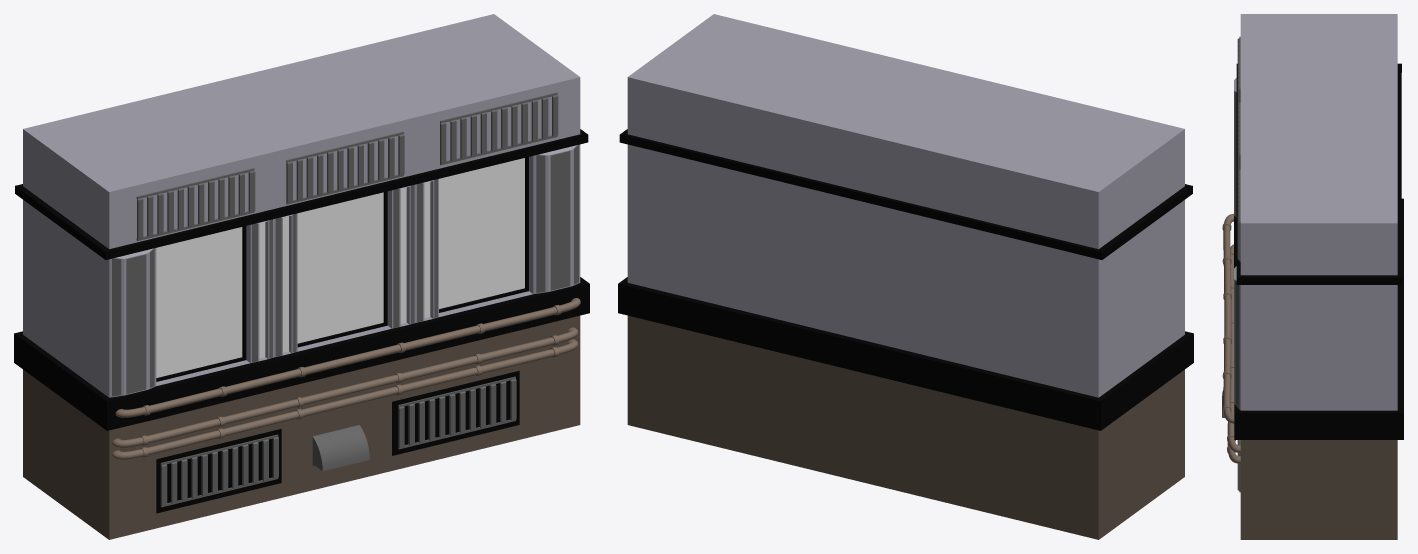
The model's file is SecFloorVol2.fbx.
The picture shows the model from 3 angles, left to right: view 1: azimuth 30°, elevation 25°; view 2: azimuth 150°, elevation 25°; view 3: azimuth 270°, elevation 25°; orthographic projection. The views are drawn at different scales.
Visible parts, largest first — view 1: Cube.036, NurbsPath.042, NurbsPath.041, NurbsPath.040, Cube.052, Cube.037, Cube.039, Cube.041, Cube.040, Cube.089; view 2: Cube.036; view 3: Cube.036, NurbsPath.040, NurbsPath.041, Cube.040, Cube.039, Cube.041.
Part boxes in pixels (<box>): Cube.036: <box>14,14,589,539</box>; NurbsPath.042: <box>112,339,578,459</box>; NurbsPath.041: <box>112,327,578,447</box>; NurbsPath.040: <box>115,298,580,417</box>; Cube.052: <box>160,434,278,507</box>; Cube.037: <box>398,376,516,449</box>; Cube.039: <box>136,168,255,240</box>; Cube.041: <box>286,131,404,204</box>; Cube.040: <box>440,92,558,165</box>; Cube.089: <box>312,425,369,471</box>; Cube.036: <box>618,14,1193,539</box>; Cube.036: <box>1234,14,1403,539</box>; NurbsPath.040: <box>1222,213,1234,423</box>; NurbsPath.041: <box>1227,244,1240,452</box>; Cube.040: <box>1237,169,1240,261</box>; Cube.039: <box>1237,36,1240,104</box>; Cube.041: <box>1237,103,1240,171</box>.
Bounding box in the file's own units: 1270 × 874 × 455.
